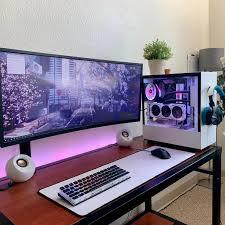keyboard: (57, 164, 131, 206)
